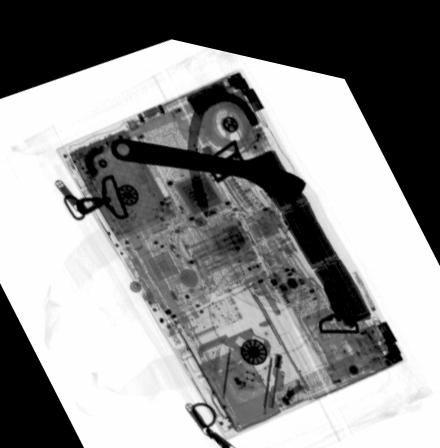Wrench: (108, 129, 307, 192)
